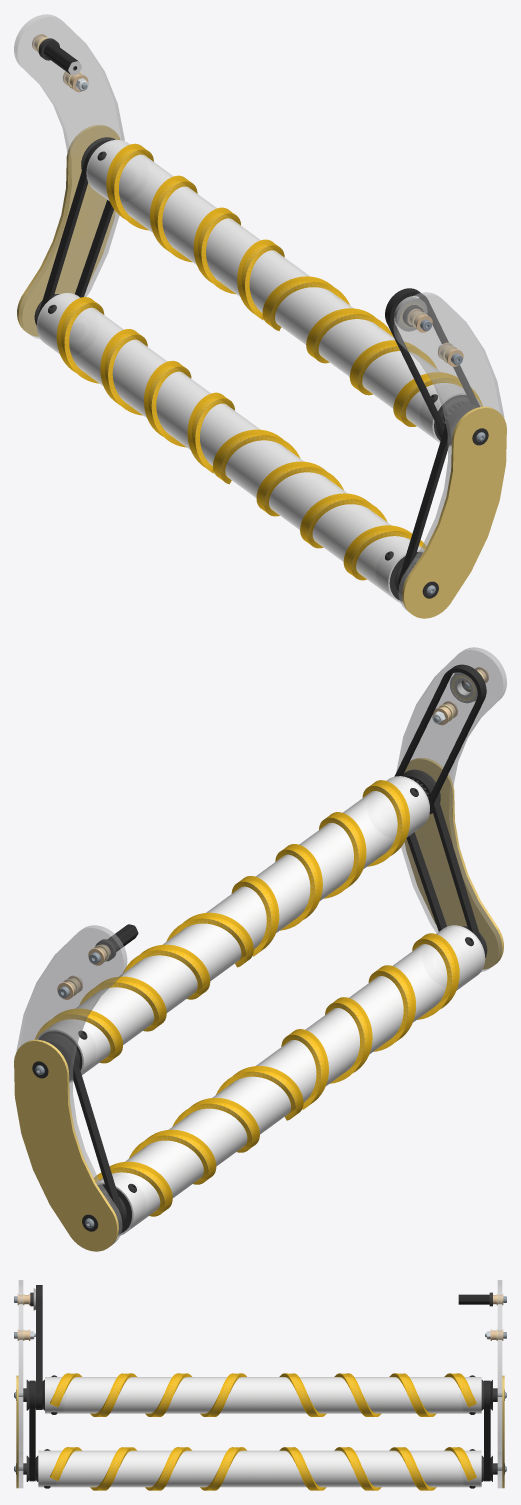
The picture shows the model from 3 angles, top to bottom: view 1: azimuth 30°, elevation 25°; view 2: azimuth 150°, elevation 25°; view 3: azimuth 270°, elevation 25°; orthographic projection. The views are drawn at different scales.
Parts seen in each view (by area): view 1: Wheel Plate (×2), Deadaxle Tube_24.188_in, Deadaxle Tube_23.813_in, Large Metal Reinforcement (×2), Tape 1 (×2), Tape 2 (×2), 80T 5M 9mm Wide Belt (×2), 77T 5M 9mm Wide Belt, Roller Endcap_Double HTD_24_Tooth_Square Nut; view 2: Deadaxle Tube_24.188_in, Deadaxle Tube_23.813_in, Wheel Plate (×2), Large Metal Reinforcement (×2), Tape 2 (×2), Tape 1 (×2), 80T 5M 9mm Wide Belt (×2), 77T 5M 9mm Wide Belt; view 3: Deadaxle Tube_24.188_in, Deadaxle Tube_23.813_in, Tape 2 (×2), Tape 1 (×2), Wheel Plate (×2), 80T 5M 9mm Wide Belt (×2), 77T 5M 9mm Wide Belt, Large Metal Reinforcement (×2), 1/2" Rounded Hex (13.75mm OD)-1.875".
Boxes of the visible parts, x1,y1,x2,y2 form: Wheel Plate (×2): (14,14,504,610); Deadaxle Tube_24.188_in: (36,293,424,603); Deadaxle Tube_23.813_in: (86,139,481,446); Large Metal Reinforcement (×2): (17,125,506,618); Tape 1 (×2): (56,143,284,473); Tape 2 (×2): (213,276,482,580); 80T 5M 9mm Wide Belt (×2): (38,140,478,592); 77T 5M 9mm Wide Belt: (385,288,479,443); Roller Endcap_Double HTD_24_Tooth_Square Nut: (434,395,476,445); Deadaxle Tube_24.188_in: (96,925,485,1235); Deadaxle Tube_23.813_in: (36,776,429,1082); Wheel Plate (×2): (16,647,506,1243); Large Metal Reinforcement (×2): (14,758,503,1251); Tape 2 (×2): (231,780,459,1109); Tape 1 (×2): (35,912,303,1216); 80T 5M 9mm Wide Belt (×2): (42,772,483,1225); 77T 5M 9mm Wide Belt: (394,664,486,810); Deadaxle Tube_24.188_in: (38,1450,481,1487); Deadaxle Tube_23.813_in: (45,1377,481,1413); Tape 2 (×2): (50,1373,246,1490); Tape 1 (×2): (279,1373,476,1490); Wheel Plate (×2): (18,1280,502,1488); 80T 5M 9mm Wide Belt (×2): (29,1380,490,1481); 77T 5M 9mm Wide Belt: (36,1285,42,1409); Large Metal Reinforcement (×2): (16,1375,504,1488); 1/2" Rounded Hex (13.75mm OD)-1.875": (458,1294,489,1304).
Size of the model in its own units: 0.1122 by 0.3138 by 0.683.
